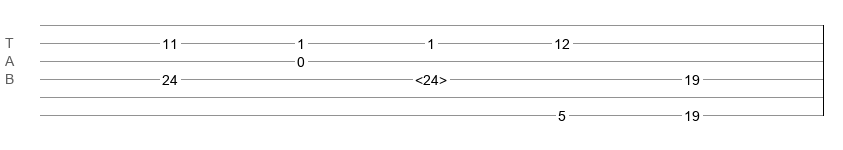0: (297, 54, 305, 64)
1: (297, 36, 305, 46), (427, 36, 435, 46)
11: (162, 36, 178, 46)
12: (554, 36, 570, 46)
19: (684, 108, 700, 118), (684, 72, 700, 82)
24: (162, 72, 178, 82)
5: (558, 108, 566, 118)
harmonic: (415, 72, 447, 82)
